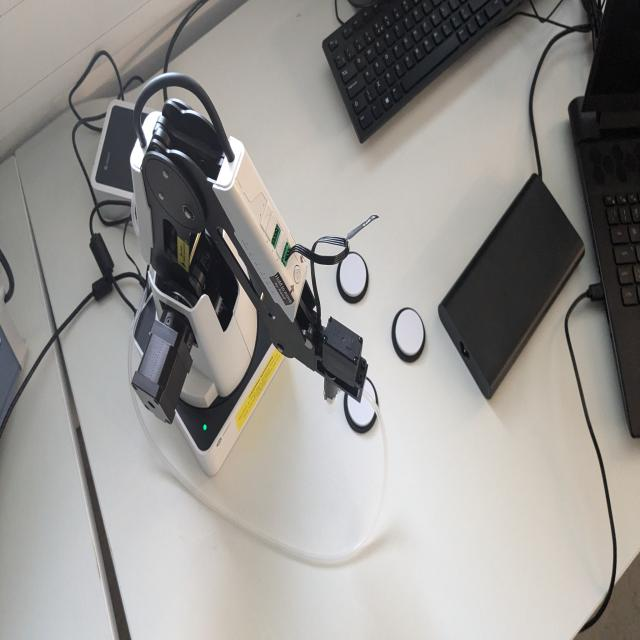Robot-end-effector-HF8z: (318, 305, 370, 416)
